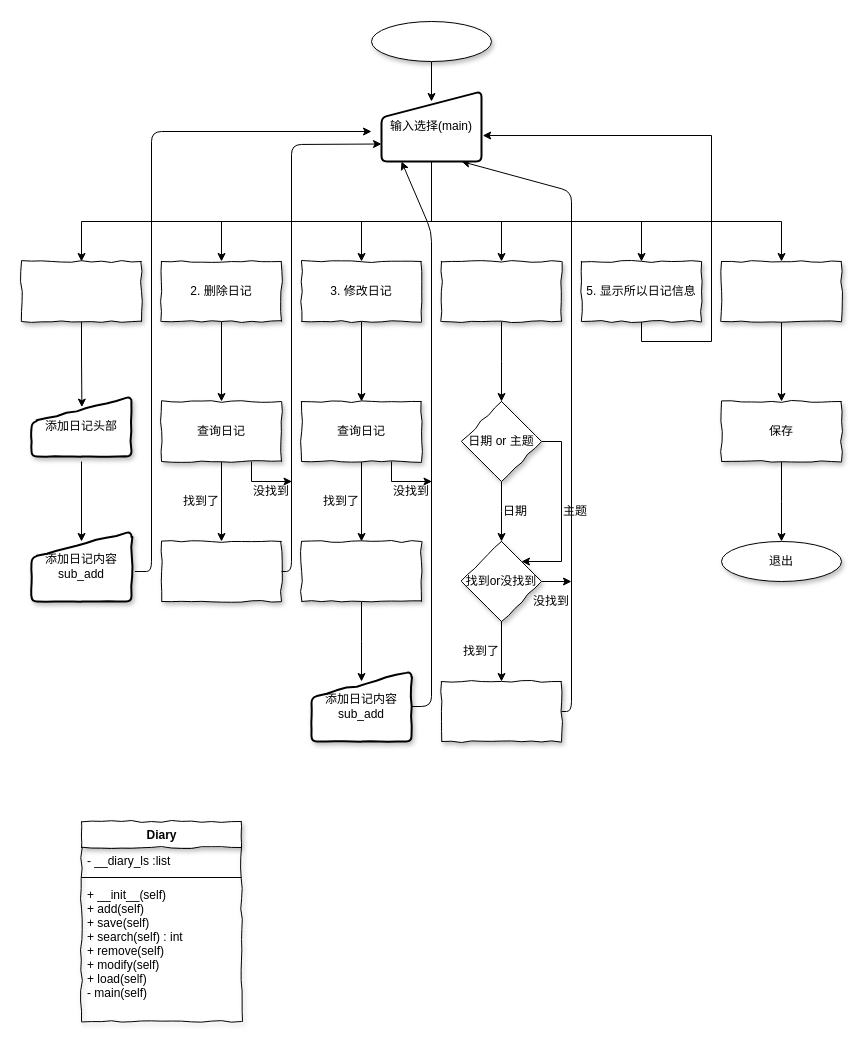
Some shapes in this 865 by 1046 pixel diagram are drawn without their labels. Each missing label, with the centre of its shape:
"1. 添加日记" goes at (82,292).
"4. 查询日记" goes at (502,292).
"6.退出" goes at (782,292).
"删除" goes at (222,572).
"删除内容" goes at (362,572).
"开始" goes at (432,42).
"输出类容,返回下标" goes at (502,712).
